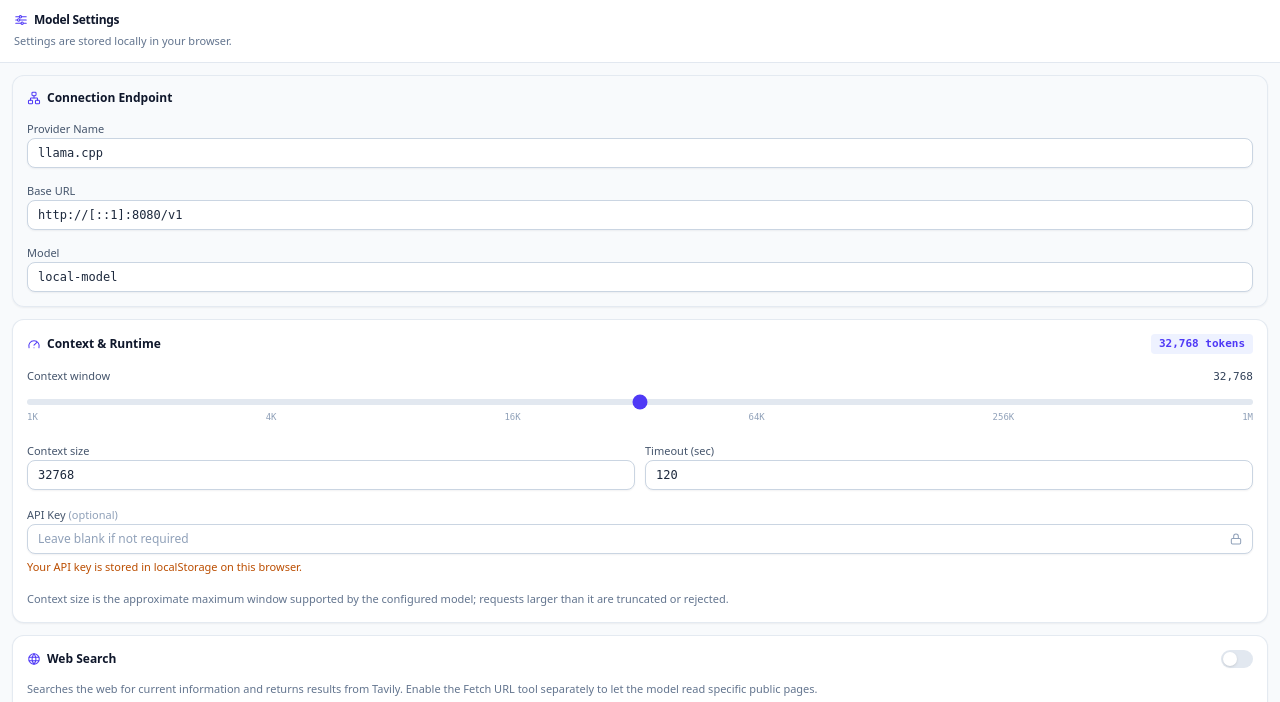
ProviderSettings › warns for an HTTP provider on a remote host
Replace the text in the field with id "base-url" with "http://provider.example.test/v1" at (640, 215), box [27,200,1253,230]
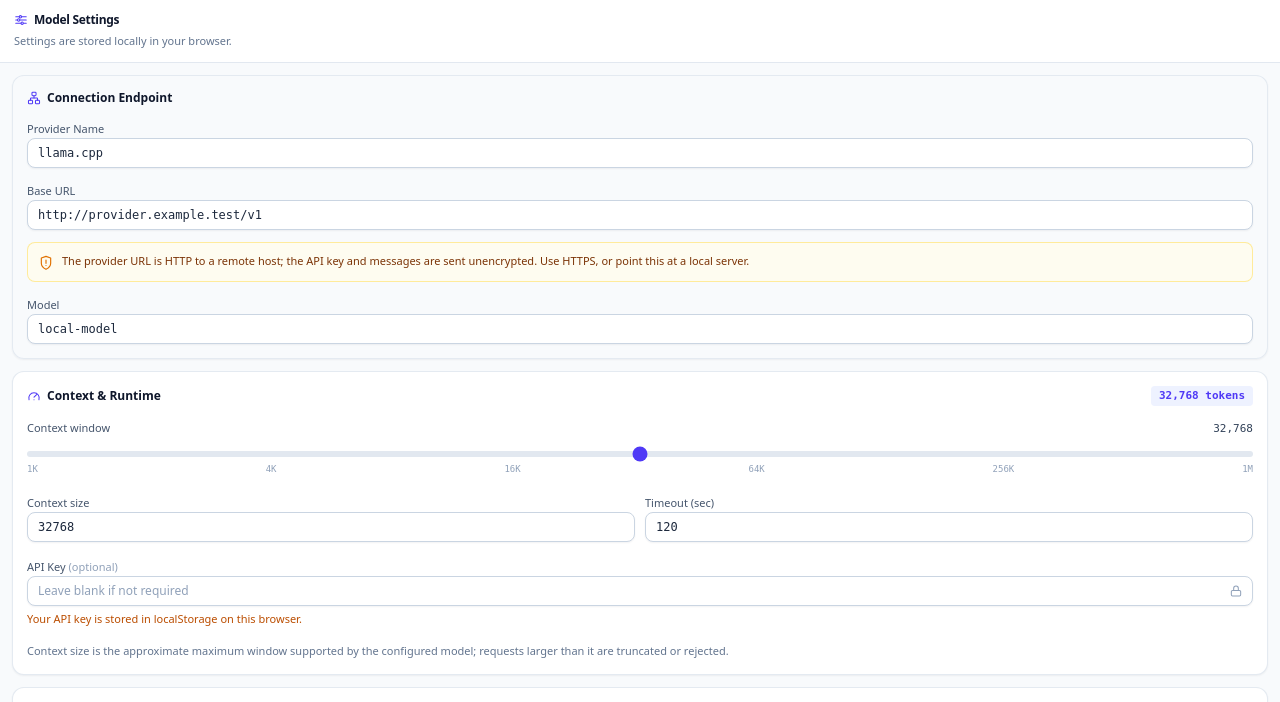
Expected: the text "HTTP to a remote host" is shown, [62,253,749,268]
